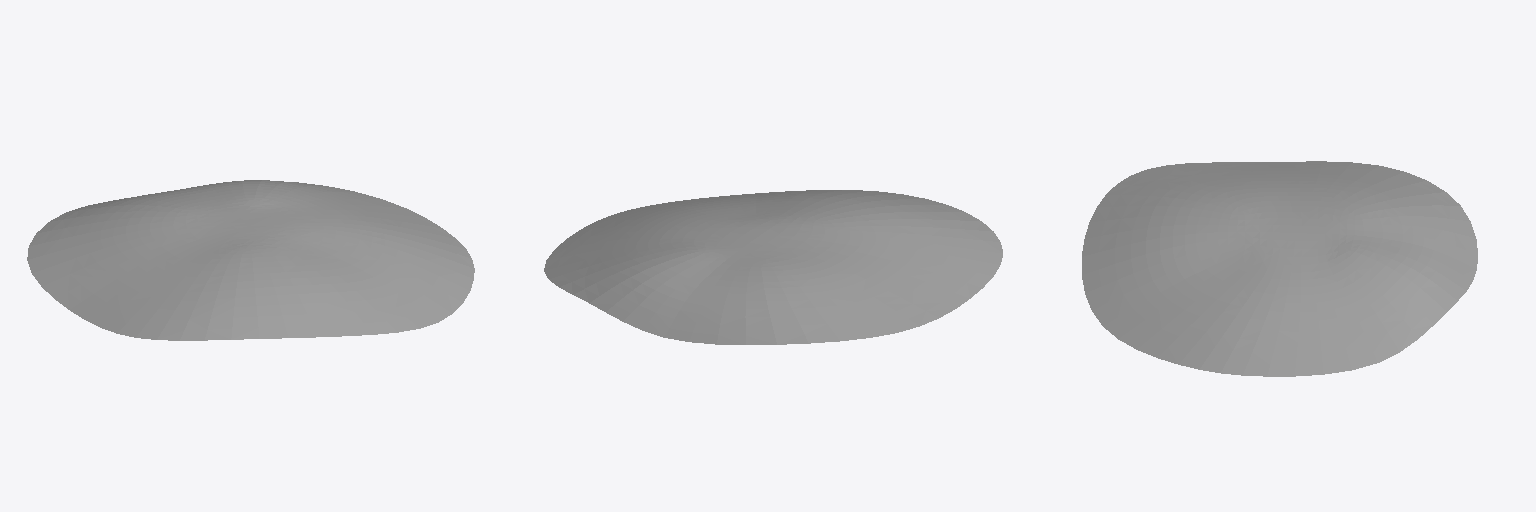
Rendered from elubie_elubie_household_sackofrice.obj.
3 renders of one model, left to right at view 1: azimuth 30°, elevation 25°; view 2: azimuth 150°, elevation 25°; view 3: azimuth 270°, elevation 25°, orthographic.
Visible parts, largest first — view 1: Cube.001; view 2: Cube.001; view 3: Cube.001.
Part boxes in pixels (x1,y1,x2,y2): Cube.001: (27, 180, 474, 340); Cube.001: (544, 190, 1002, 344); Cube.001: (1082, 161, 1477, 376).
Bounding box in the file's own units: 0.4543 × 0.0614 × 0.4008.